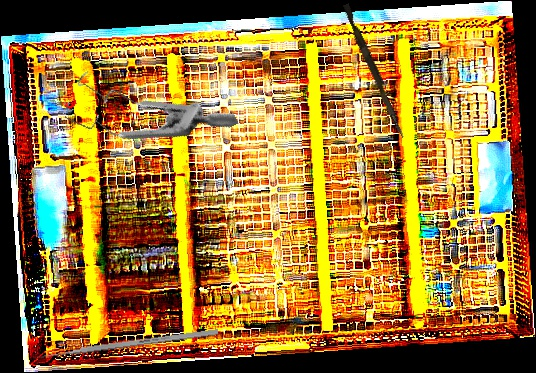Pusher: (339, 3, 410, 139), (33, 328, 219, 361)
Speculum: (51, 23, 239, 188)
